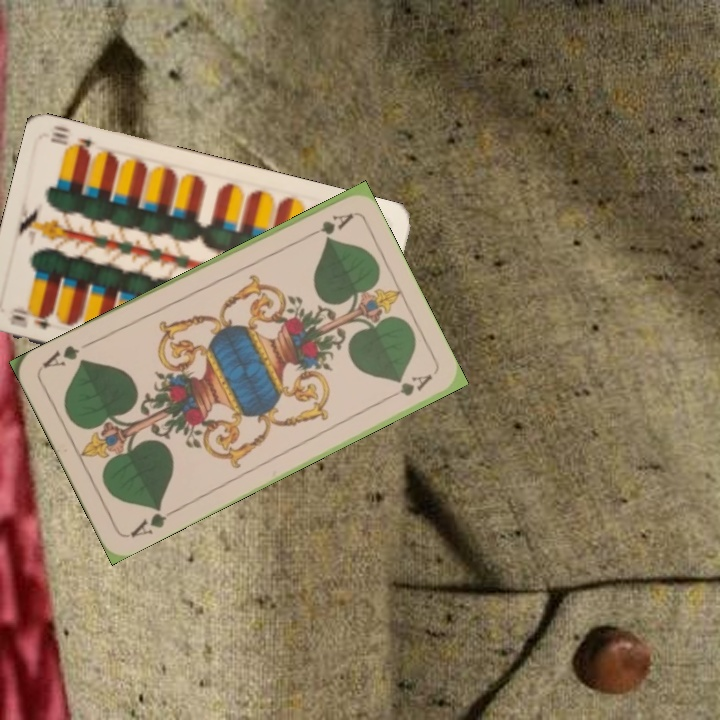E10: (3, 304, 55, 332)
GA: (126, 501, 179, 540), (299, 209, 355, 243)
